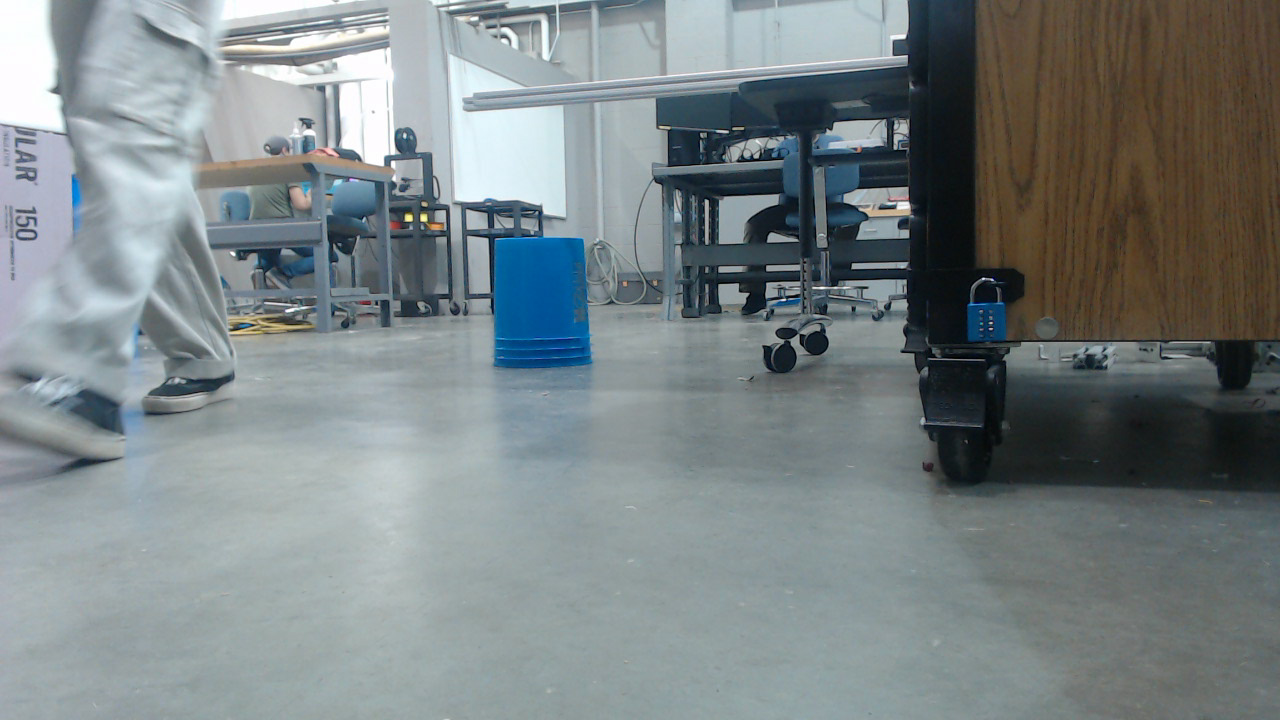blue_bucket: (495, 242, 602, 373)
